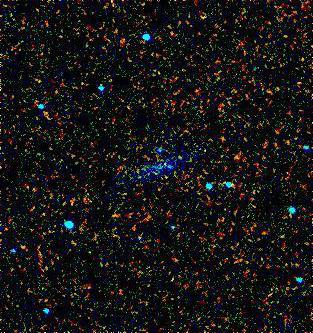star: (207, 126, 237, 156)
